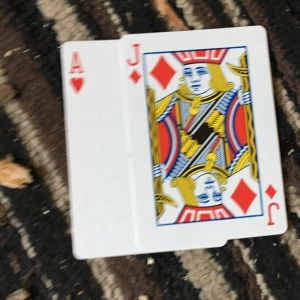card: (122, 25, 288, 244), (56, 40, 126, 260)
